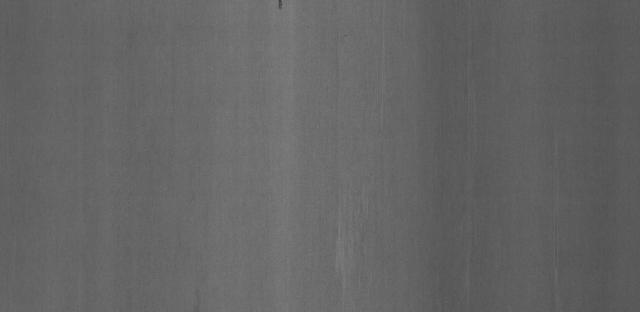inclusion: (268, 0, 295, 12)
